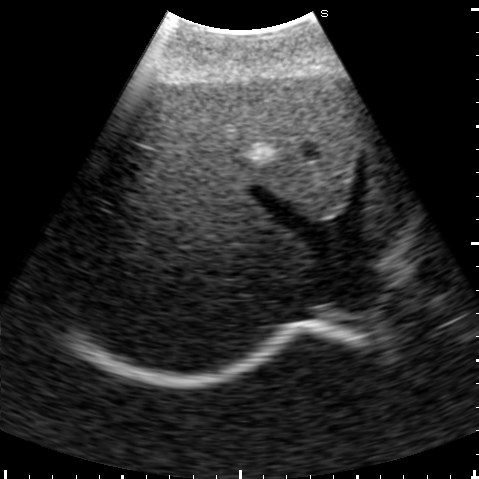S2: (366, 132, 400, 234)
S4: (137, 75, 360, 220)
S7: (61, 262, 276, 373)
S8: (87, 145, 314, 289)
Tumor: (246, 141, 276, 164)
